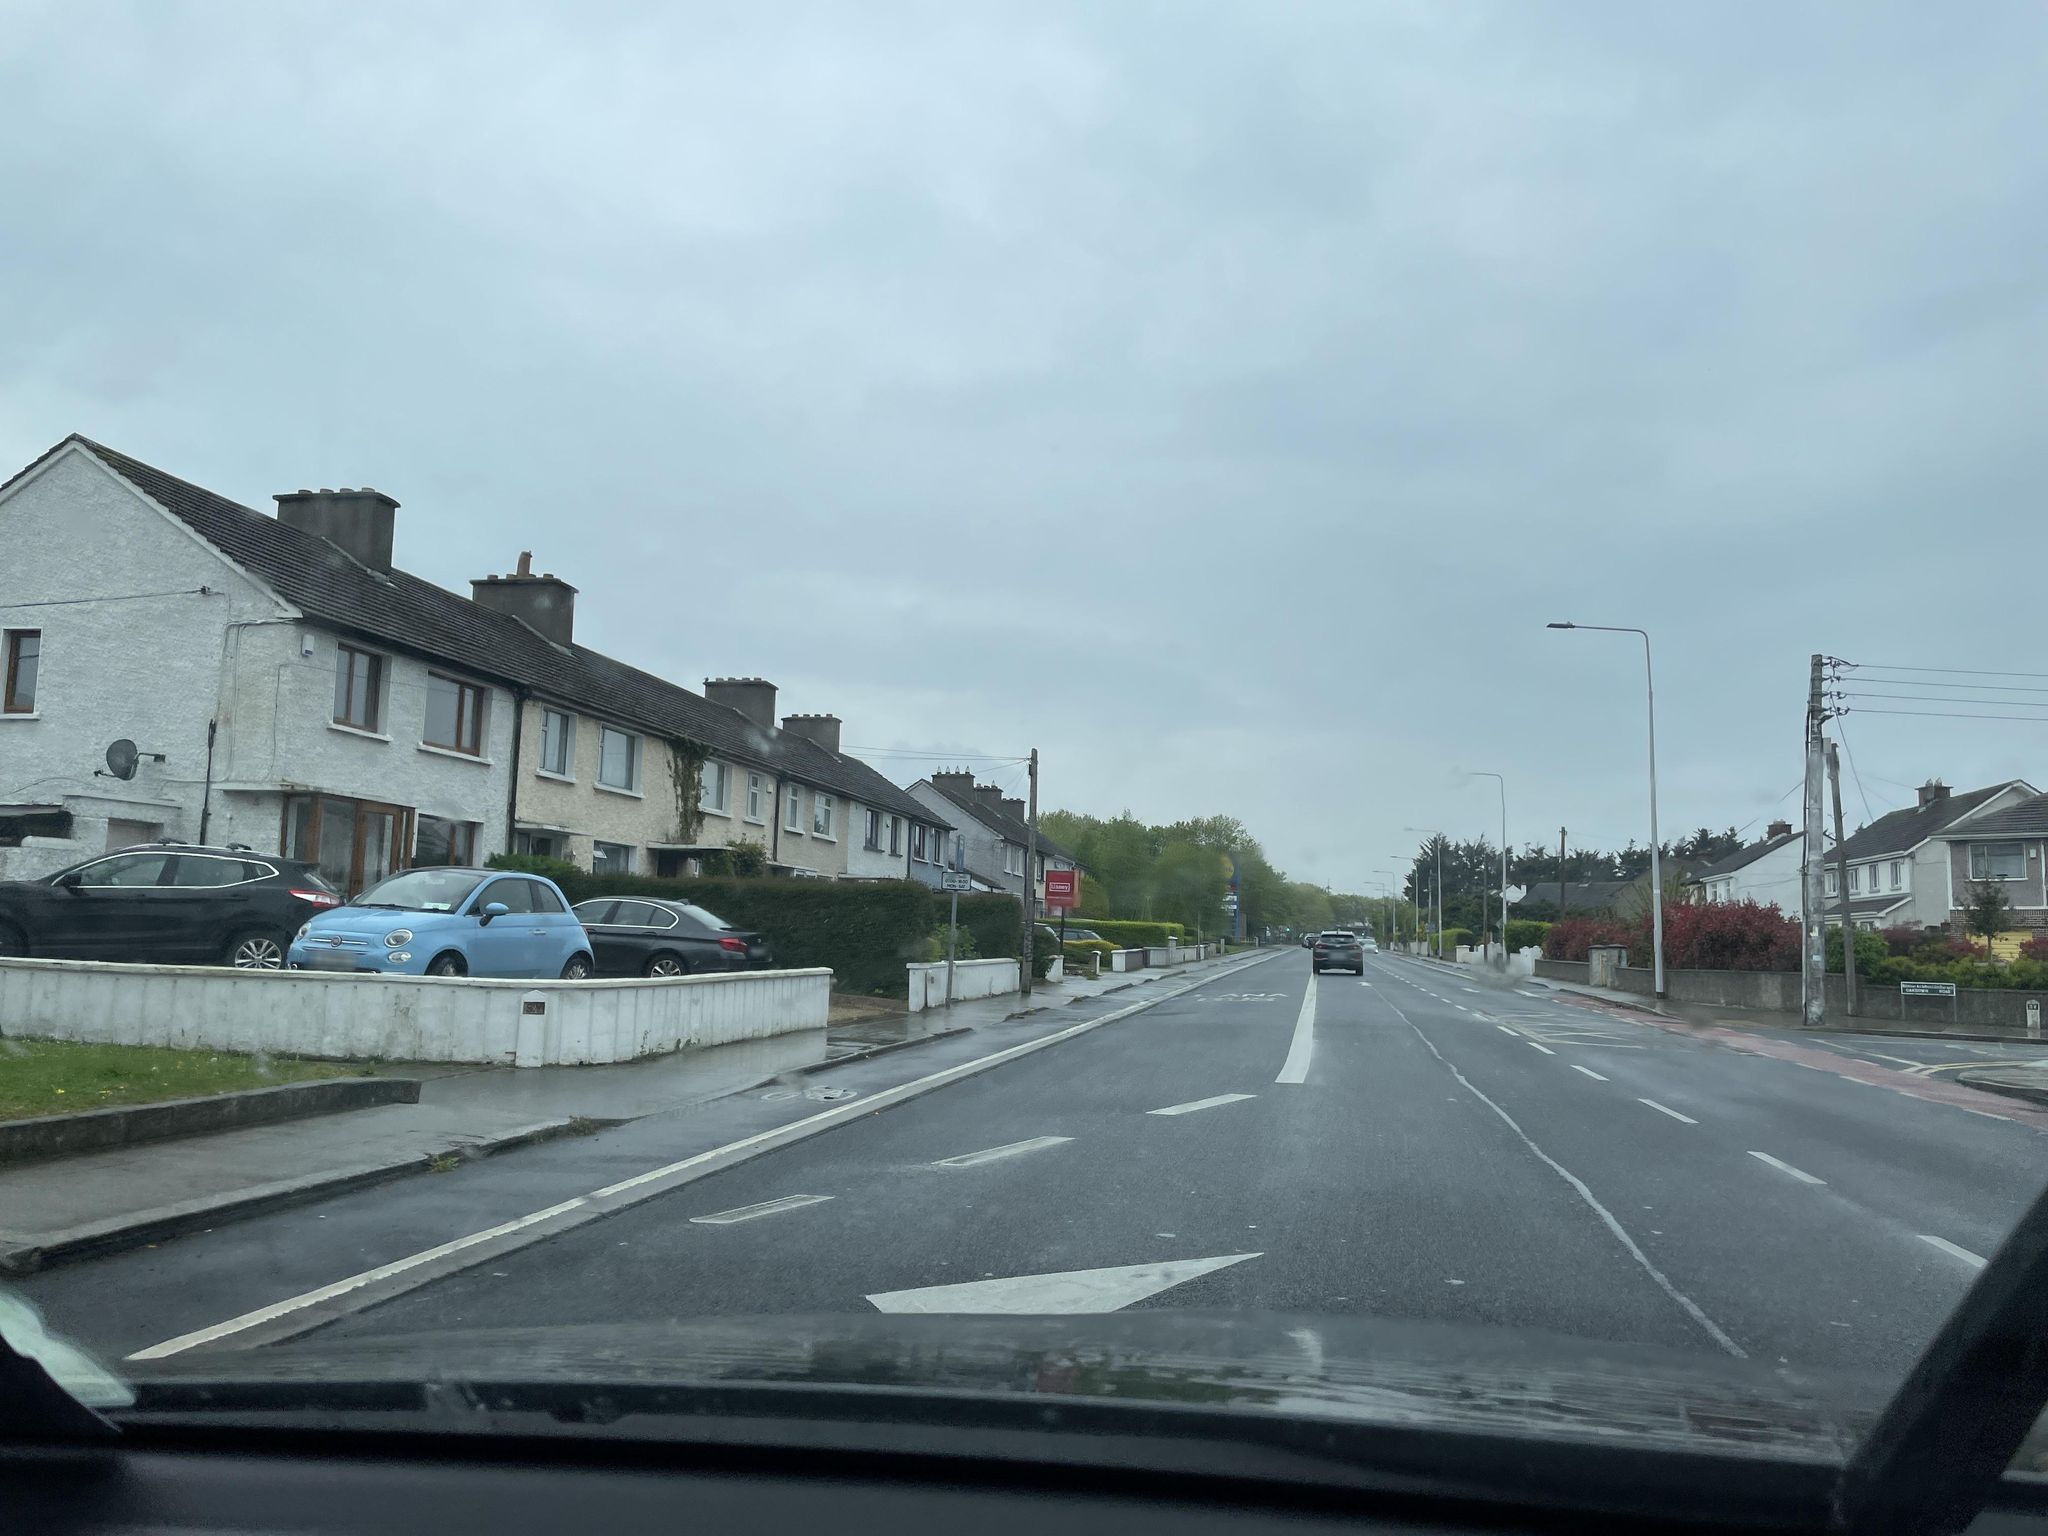property sign: (1035, 854, 1095, 915)
